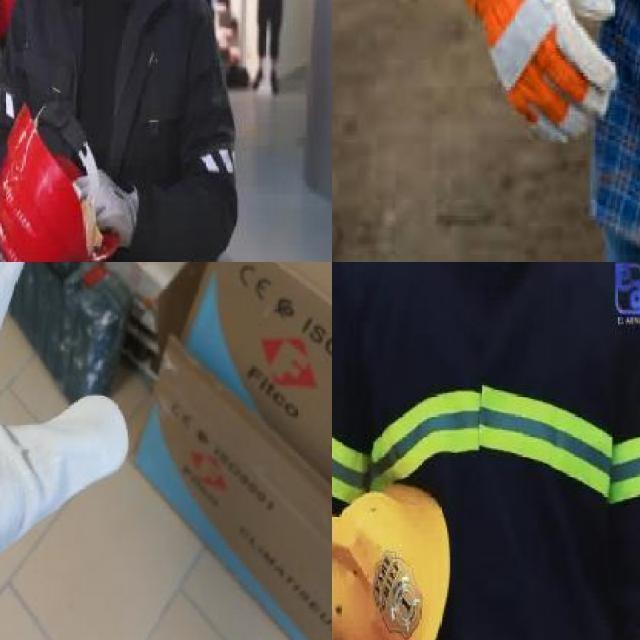apron: (0, 262, 136, 640), (435, 0, 612, 156), (71, 164, 144, 253)
